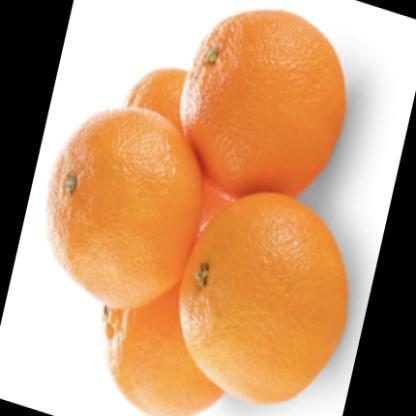fresh: (48, 17, 353, 416)
